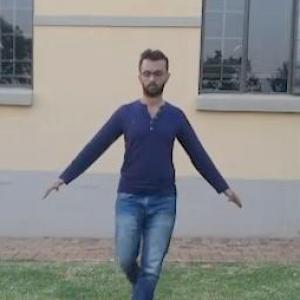land: (53, 44, 246, 299)
